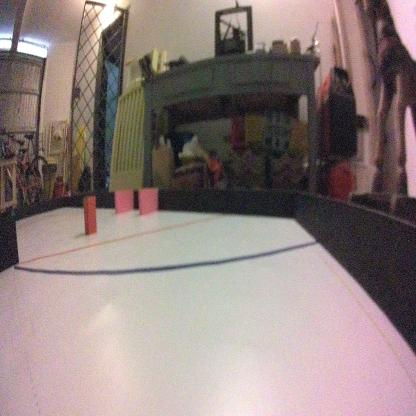magenta: (112, 185, 134, 216), (138, 186, 156, 217)
red: (81, 191, 96, 236)
